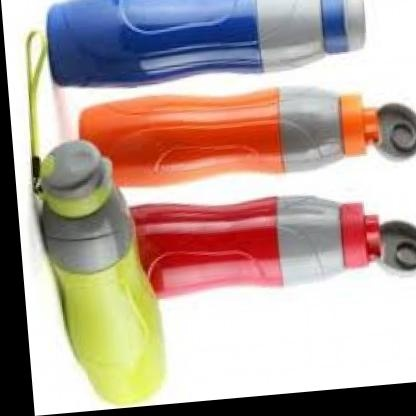trash: (3, 0, 415, 414), (79, 87, 415, 185), (40, 141, 164, 403), (47, 0, 364, 85), (131, 196, 380, 295)
